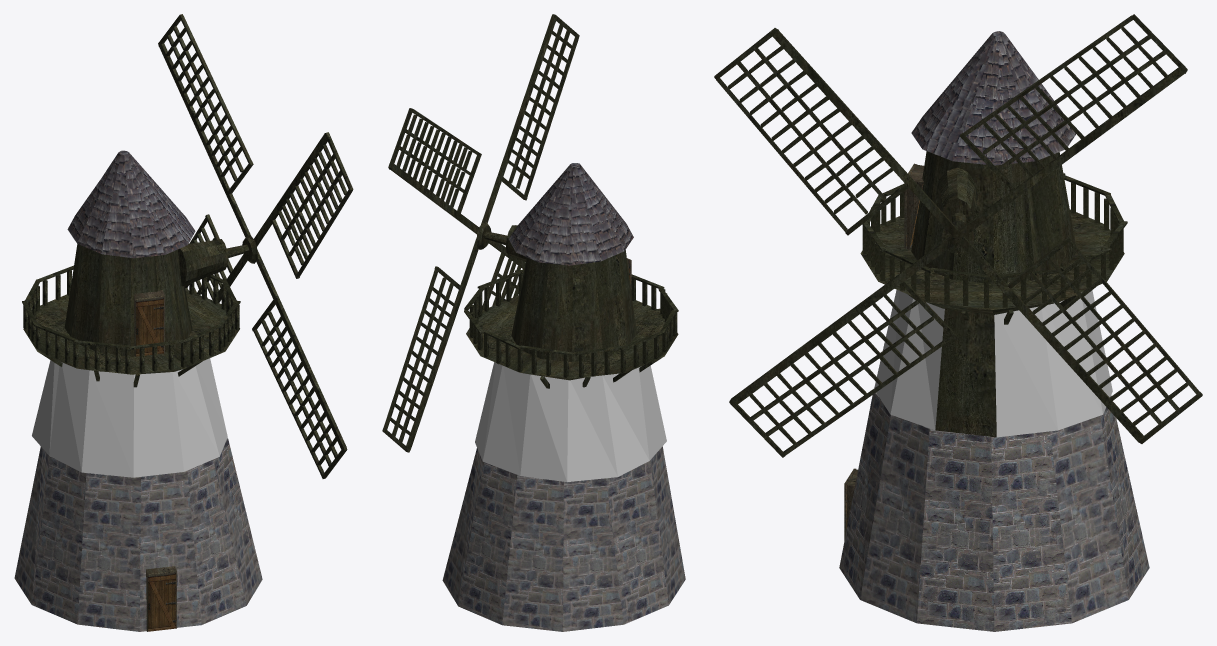
File: windmill02.obj
3 views of the same model, side by side, from view 1: azimuth 30°, elevation 25°; view 2: azimuth 150°, elevation 25°; view 3: azimuth 270°, elevation 25° (orthographic). The views are drawn at different scales.
Visible parts, largest first — view 1: Model_85, Model_80, Model_11, Model_79, Model_1, Model_164, Model_75, Model_69, Model_81, Model_72, Model_204, Model_166 (+4 smaller); view 2: Model_85, Model_80, Model_11, Model_79, Model_1, Model_72, Model_164, Model_74, Model_127, Model_157, Model_128, Model_119 (+1 smaller); view 3: Model_85, Model_80, Model_11, Model_79, Model_1, Model_164, Model_72, Model_69, Model_204, Model_166, Model_196, Model_234 (+9 smaller).
Part boxes in pixels (x1,y1,x2,y2): Model_85: (14,438,262,631); Model_80: (32,358,227,477); Model_11: (64,244,192,356); Model_79: (67,150,195,258); Model_1: (23,289,239,374); Model_164: (159,43,345,449); Model_75: (146,571,176,631); Model_69: (178,239,228,286); Model_81: (134,296,164,356); Model_72: (212,134,327,302); Model_204: (180,16,252,163); Model_166: (253,329,324,476); Model_85: (442,446,685,631); Model_80: (475,362,666,482); Model_11: (511,250,636,362); Model_79: (508,163,633,265); Model_1: (466,295,678,380); Model_72: (406,17,556,449); Model_164: (391,164,525,268); Model_74: (383,269,438,429); Model_127: (524,37,578,197); Model_157: (508,24,563,183); Model_128: (516,30,570,188); Model_119: (399,283,453,442); Model_85: (839,393,1149,631); Model_80: (874,290,1112,437); Model_11: (911,151,1076,283); Model_79: (911,31,1075,165); Model_1: (860,209,1124,314); Model_164: (732,67,1185,404); Model_72: (772,31,1143,442); Model_69: (936,167,977,223); Model_204: (963,15,1132,136); Model_166: (783,335,953,455); Model_196: (750,300,918,420); Model_234: (997,51,1165,170).
Size of what is drawn, in the model's own units: 1486 by 3314 by 2393.
